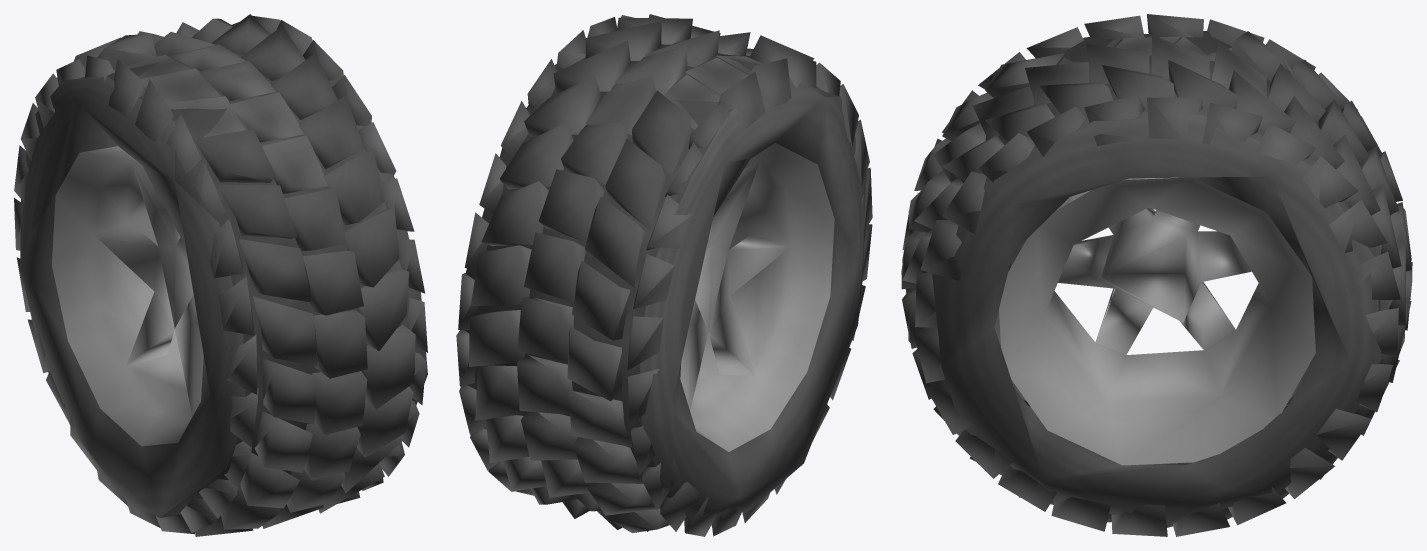
Rendered from LK4_wheel_d2.obj.
3 views of the same model, side by side, from view 1: azimuth 30°, elevation 25°; view 2: azimuth 150°, elevation 25°; view 3: azimuth 270°, elevation 25° (orthographic).
Visible parts, largest first — view 1: LK4_wheel; view 2: LK4_wheel; view 3: LK4_wheel.
Boxes of the visible parts, x1,y1,x2,y2 form: LK4_wheel: (14,14,427,536); LK4_wheel: (456,14,872,536); LK4_wheel: (901,14,1412,536).
Bounding box in the file's own units: 0.3854 × 0.8324 × 0.8323.
1 material, 1 textured.
